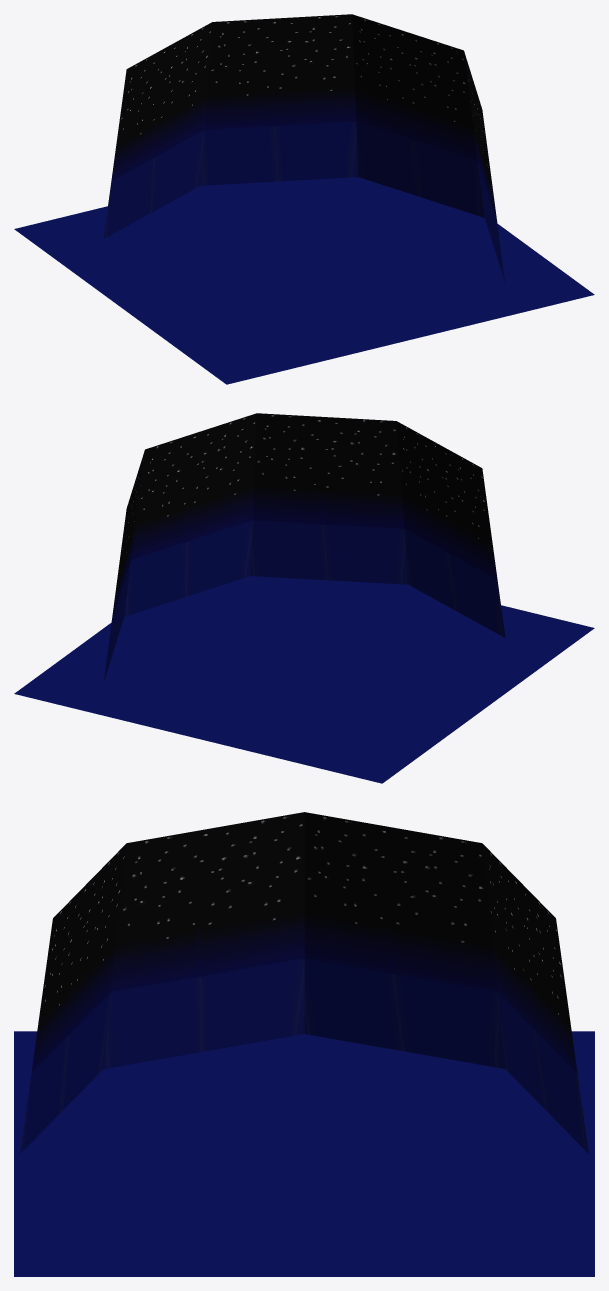
File: pinball_course-pinball_course_V.glb
3 renders of one model, top to bottom at view 1: azimuth 30°, elevation 25°; view 2: azimuth 150°, elevation 25°; view 3: azimuth 270°, elevation 25°, orthographic. The views are drawn at different scales.
Visible parts, largest first — view 1: pinball_course_V; view 2: pinball_course_V; view 3: pinball_course_V.
Boxes of the visible parts, left/top/right/bottom form: pinball_course_V: left=14, top=14, right=594, bottom=384; pinball_course_V: left=14, top=413, right=594, bottom=783; pinball_course_V: left=14, top=812, right=594, bottom=1276.
Bounding box in the file's own units: 969 × 590 × 969.
Materials: 1 (1 with a texture image).
